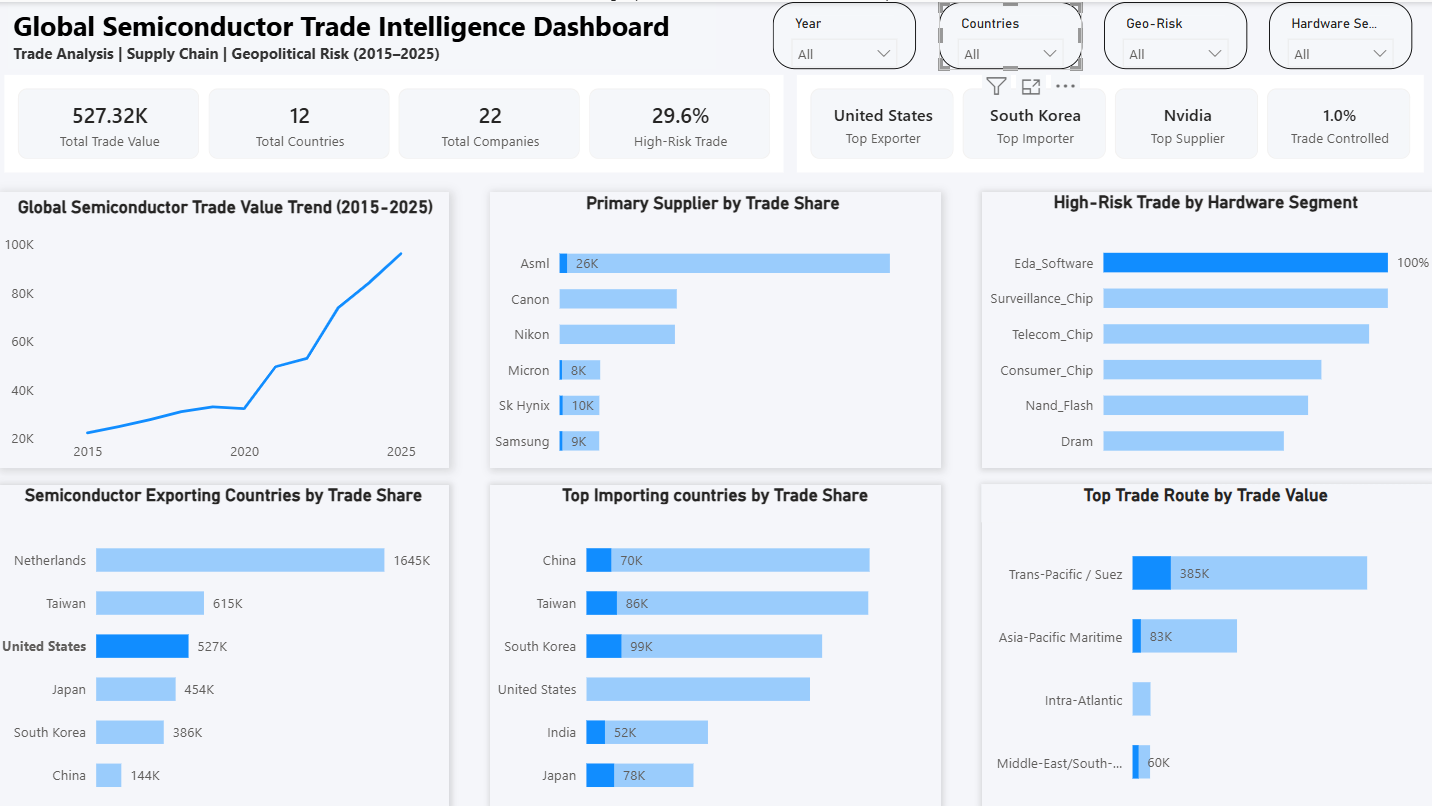

The page's visual inventory and layout, read from the dashboard file:
{"tool":"powerbi","page":{"name":"Page 1","canvas":[1280,720],"ordinal":0},"visuals":[{"type":"textbox","box":[7.5,0,632.5,60],"z":0},{"type":"slicer","title":"Year","fields":{"Values":["Trade_Flows1.year"]},"box":[691.2,0,128,60],"z":1000},{"type":"cardVisual","fields":{"Data":["Sum(Trade_Flows1.trade_value_usd_millions)","Count(Country.exporter_country)","Count(company_profile (2).company_name)","Trade_Flows1.High_Risk"]},"box":[0,60,708.5,97.7],"z":2000},{"type":"lineChart","title":"Global Semiconductor Trade Value Trend (2015-2025)","fields":{"Y":["Sum(Trade_Flows1.trade_value_usd_millions)"],"Category":["Trade_Flows1.year"]},"box":[0,169.7,402,246],"z":3000},{"type":"slicer","title":"Year","fields":{"Values":["Country.exporter_country"]},"box":[839.2,0,128,60],"z":4000},{"type":"slicer","title":"Year","fields":{"Values":["Trade_Flows1.geopolitical_sensitivity"]},"box":[987.1,0,128,60],"z":5000},{"type":"slicer","title":"Year","fields":{"Values":["Trade_Flows1.Hardware_Segment"]},"box":[1135,0,128,60],"z":6000},{"type":"clusteredBarChart","title":"Semiconductor  Exporting Countries by Trade Share","fields":{"Category":["Trade_Flows1.exporter_country"],"Y":["Sum(Trade_Flows1.trade_value_usd_millions)"]},"box":[0,431,402,289],"z":7000},{"type":"clusteredBarChart","title":"Top Importing countries by Trade Share","fields":{"Y":["Sum(Trade_Flows1.trade_value_usd_millions)"],"Category":["Trade_Flows1.importer_country"]},"box":[439,431,402,289],"z":8000},{"type":"clusteredBarChart","title":"Primary Supplier by Trade Share","fields":{"Y":["Sum(Trade_Flows1.trade_value_usd_millions)"],"Category":["Trade_Flows1.primary_supplier"]},"box":[439,169.7,402,246],"z":9000},{"type":"clusteredBarChart","title":"High-Risk Trade by Hardware Segment","fields":{"Category":["Trade_Flows1.hardware_type"],"Y":["Trade_Flows1.High_Risk"]},"box":[878,169.7,402,246],"z":10000},{"type":"clusteredBarChart","title":"Top Trade Route by Trade Value","fields":{"Category":["Trade_Flows1.trade_route"],"Y":["Sum(Trade_Flows1.trade_value_usd_millions)"]},"box":[878,431,402,289],"z":11000},{"type":"cardVisual","title":"Key Insights","fields":{"Data":["Country.Top Exporter","Country.Top Importer","Country.Top Supplier","Trade_Flows1.Export_controlled_Trade"]},"box":[708.5,60,571.5,97.7],"z":12000}]}

Visuals, with their boxes in screenshot pixels (x1, y1, x2, y2), scaled from the page's 1280x720 canvas onto the 1432x806 screenshot:
textbox: <bbox>8, 0, 716, 67</bbox>
"Year" slicer: <bbox>773, 0, 916, 67</bbox>
cardVisual - Sum(Trade_Flows1.trade_value_usd_millions) x Count(Country.exporter_country): <bbox>0, 67, 793, 177</bbox>
"Global Semiconductor Trade Value Trend (2015-2025)" lineChart: <bbox>0, 190, 450, 465</bbox>
"Year" slicer: <bbox>939, 0, 1082, 67</bbox>
"Year" slicer: <bbox>1104, 0, 1248, 67</bbox>
"Year" slicer: <bbox>1270, 0, 1413, 67</bbox>
"Semiconductor  Exporting Countries by Trade Share" clusteredBarChart: <bbox>0, 482, 450, 805</bbox>
"Top Importing countries by Trade Share" clusteredBarChart: <bbox>491, 482, 941, 805</bbox>
"Primary Supplier by Trade Share" clusteredBarChart: <bbox>491, 190, 941, 465</bbox>
"High-Risk Trade by Hardware Segment" clusteredBarChart: <bbox>982, 190, 1431, 465</bbox>
"Top Trade Route by Trade Value" clusteredBarChart: <bbox>982, 482, 1431, 805</bbox>
"Key Insights" cardVisual: <bbox>793, 67, 1431, 177</bbox>
